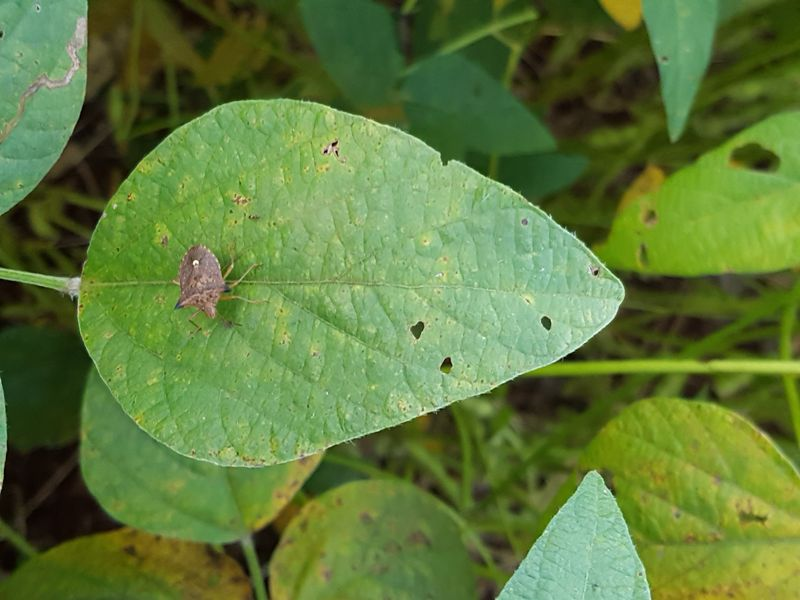Euschistus_heros_adulto: (157, 234, 259, 337)
